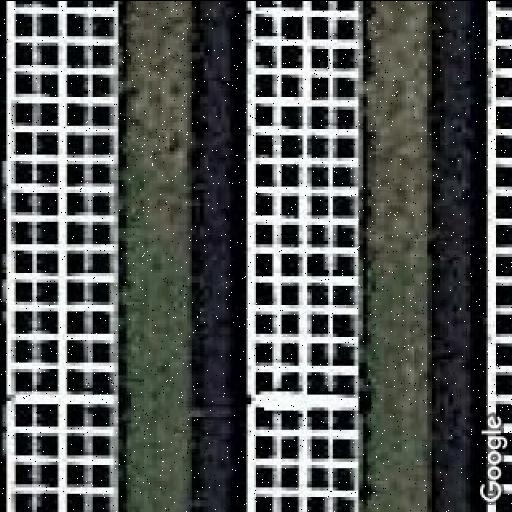solar-panel: (243, 0, 363, 512), (5, 0, 125, 512), (483, 0, 512, 512)
